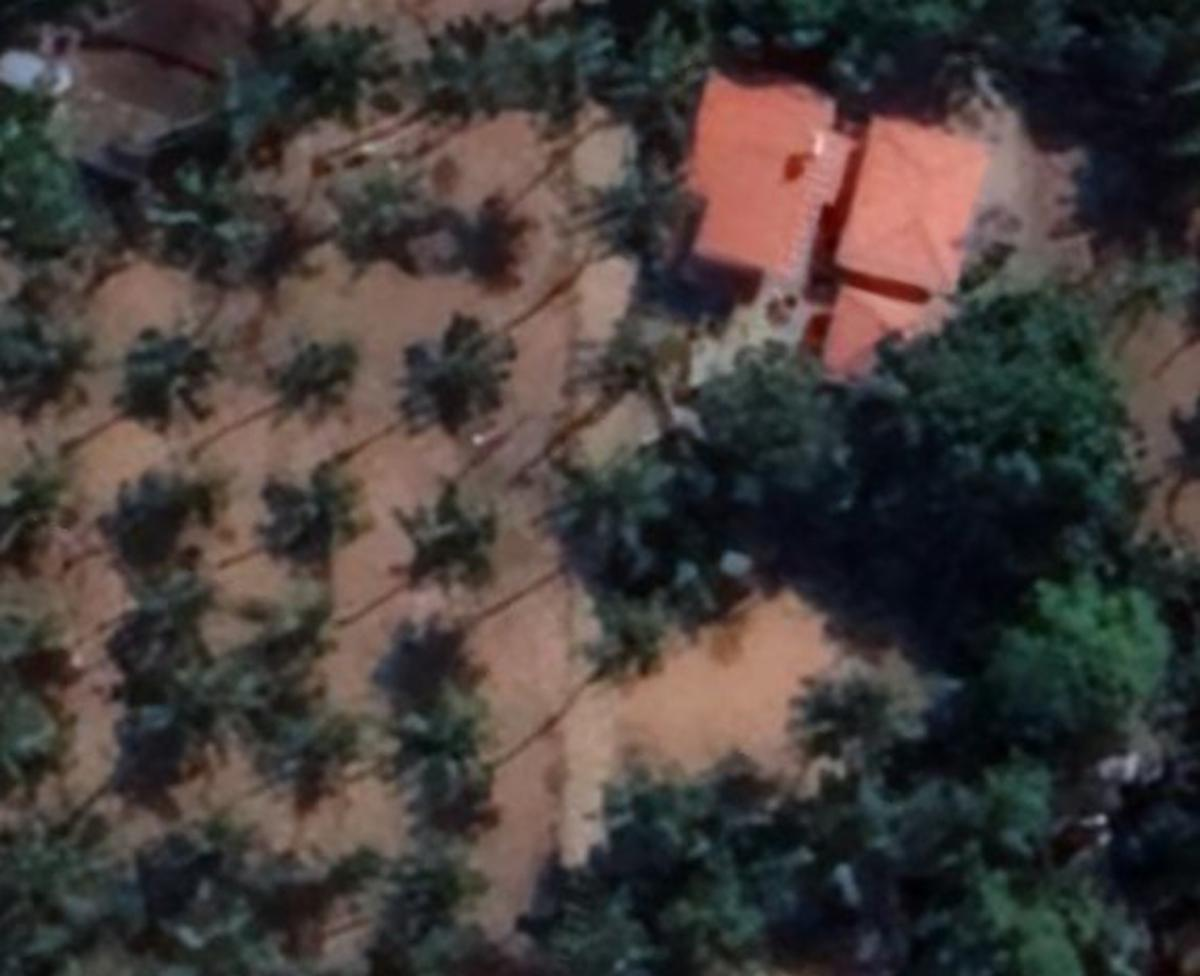coconut: (396, 316, 537, 444), (92, 465, 232, 575), (100, 319, 226, 436), (318, 157, 446, 270), (144, 159, 268, 274), (255, 451, 377, 566), (213, 577, 346, 680), (386, 472, 511, 577), (371, 719, 497, 816), (264, 701, 379, 803), (113, 570, 220, 667), (2, 312, 98, 417), (2, 455, 73, 566), (272, 329, 362, 413)
